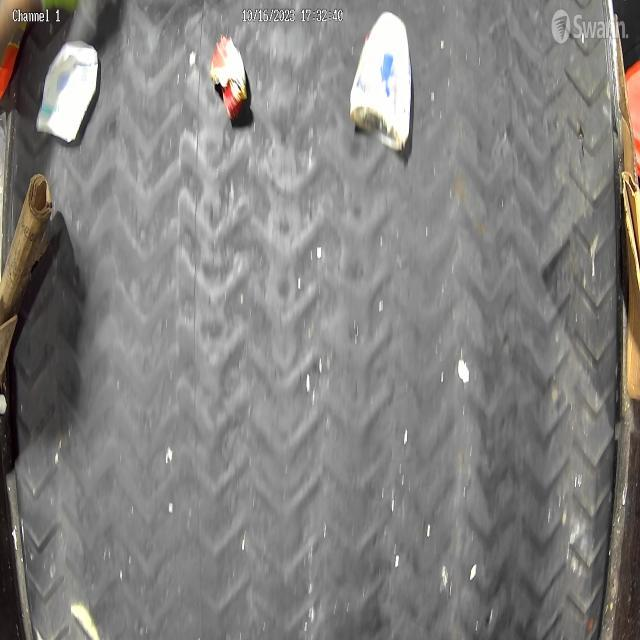can: (208, 29, 248, 114)
